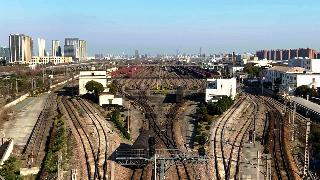train: (131, 130, 155, 166), (175, 85, 183, 102)
